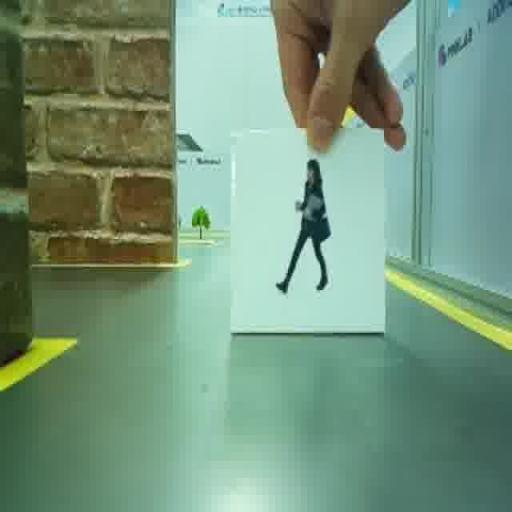human: (275, 159, 330, 292)
